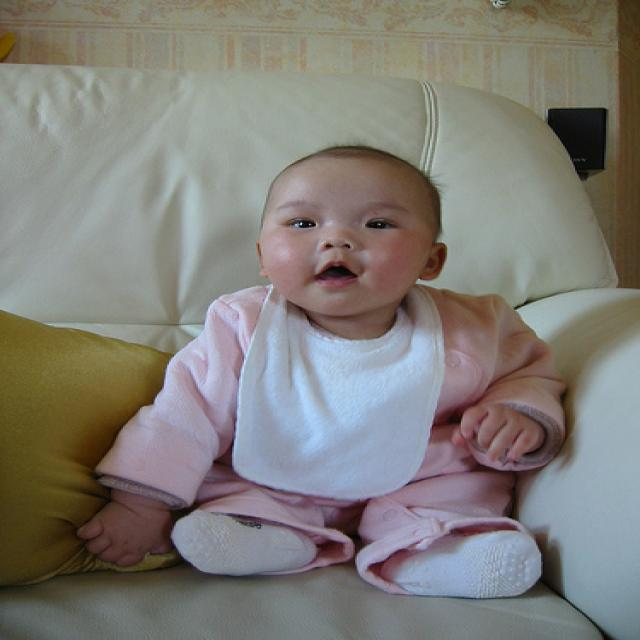person: (75, 147, 568, 599)
